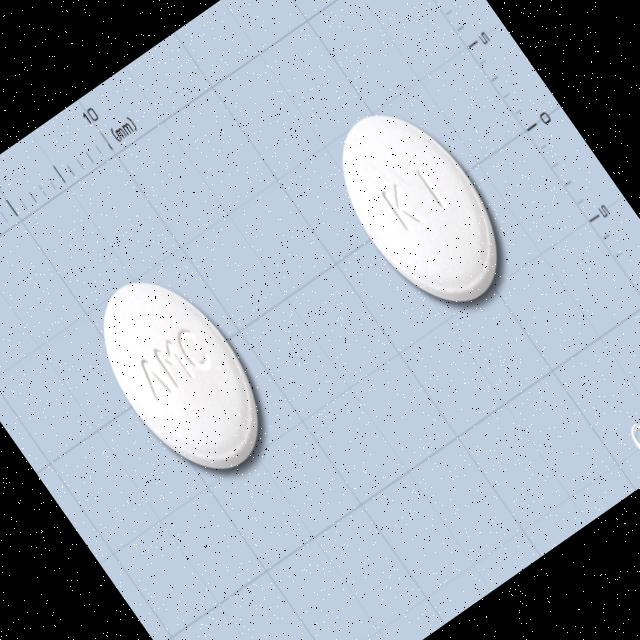Amocla 375mg: (309, 84, 531, 330), (72, 254, 290, 496)
